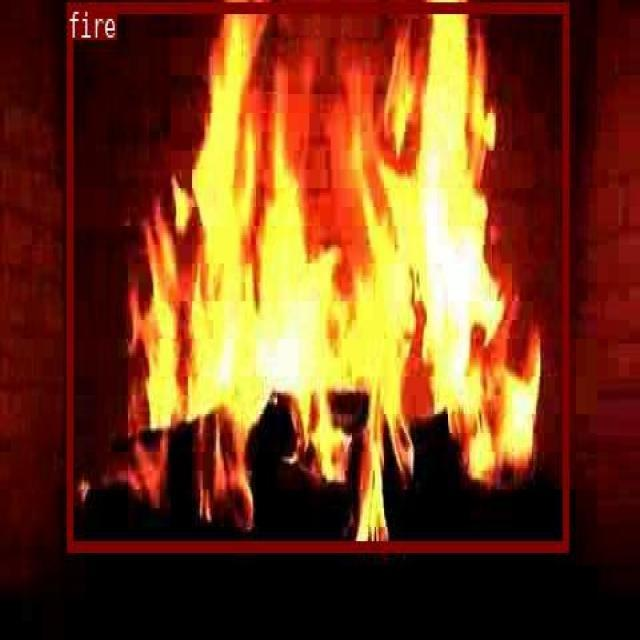fire: (66, 1, 567, 551)
